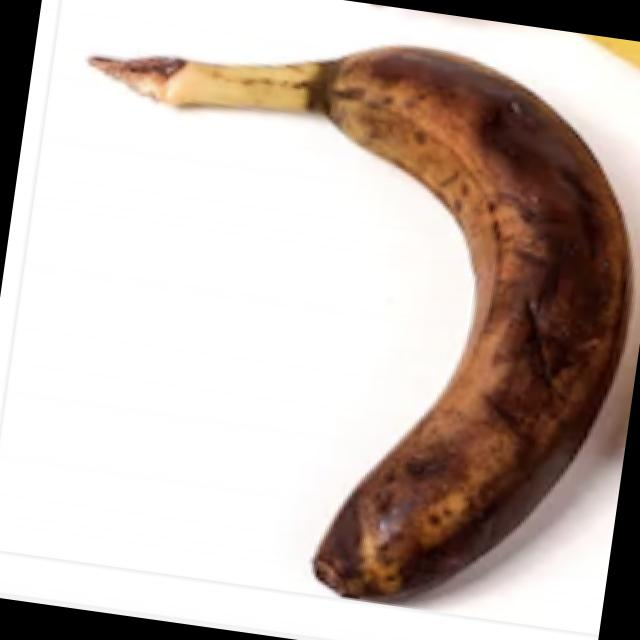rotten-banana: (160, 18, 640, 624)
